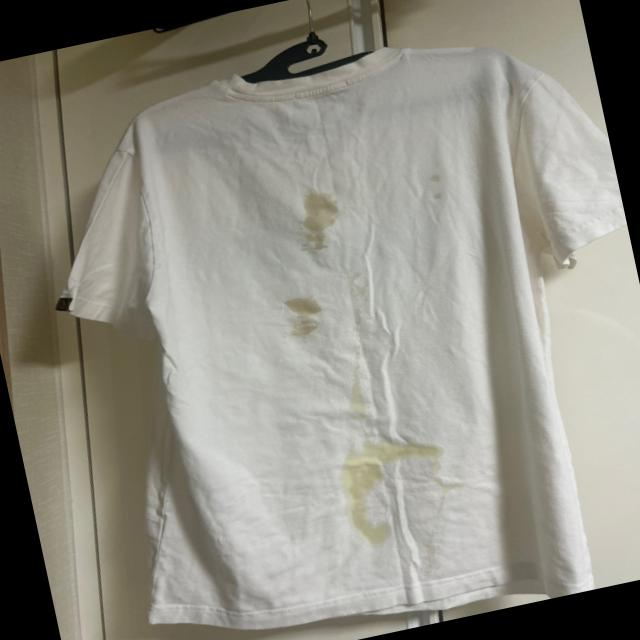stain: (334, 426, 456, 546), (288, 181, 344, 252), (332, 350, 376, 416), (276, 288, 326, 342), (422, 161, 456, 205), (342, 266, 377, 302)
